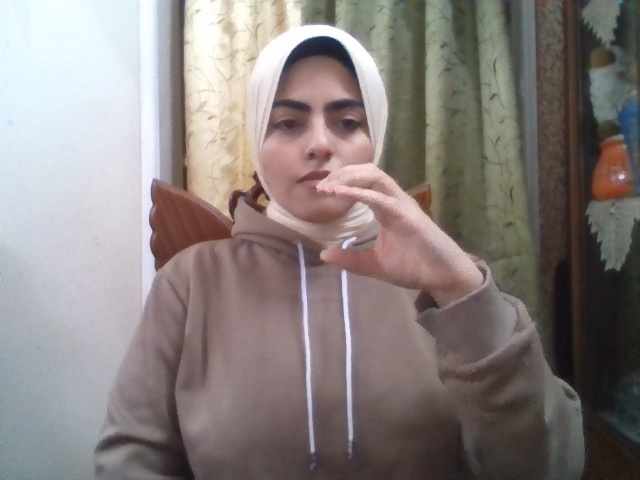C: (317, 164, 470, 295)
